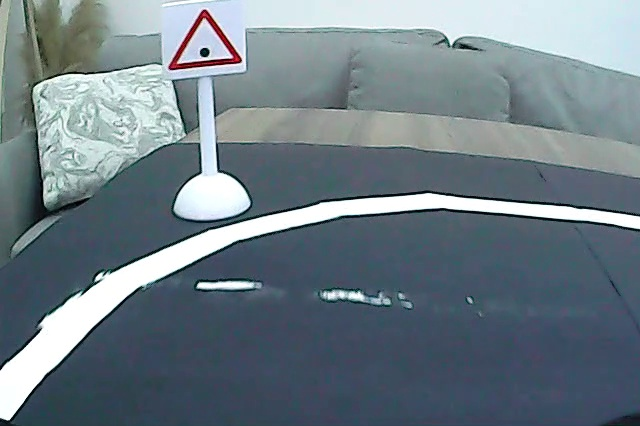green light: (167, 3, 245, 73)
